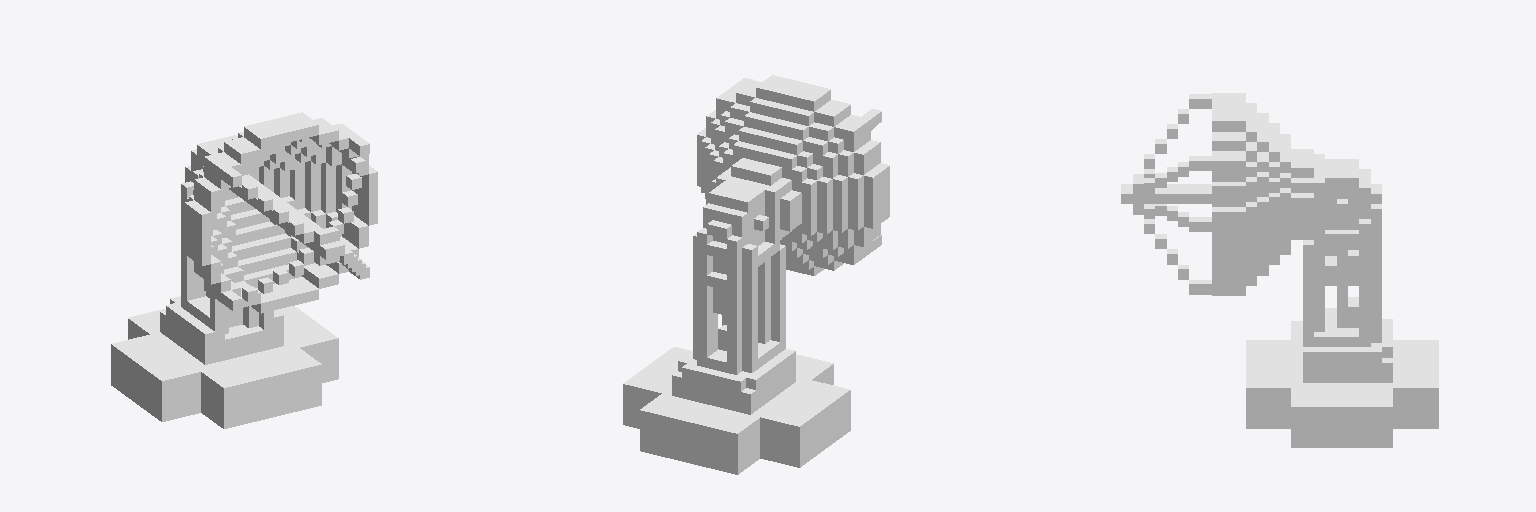
Rendered from SlowModule.obj.
3 renders of one model, left to right at view 1: azimuth 30°, elevation 25°; view 2: azimuth 150°, elevation 25°; view 3: azimuth 270°, elevation 25°, orthographic.
Visible parts, largest first — view 1: SlowModule; view 2: SlowModule; view 3: SlowModule.
Part boxes in pixels (x1,y1,x2,y2): SlowModule: (111, 112, 377, 428); SlowModule: (623, 75, 889, 474); SlowModule: (1121, 93, 1438, 447).
Size of the model in its own units: 18 by 29 by 28.